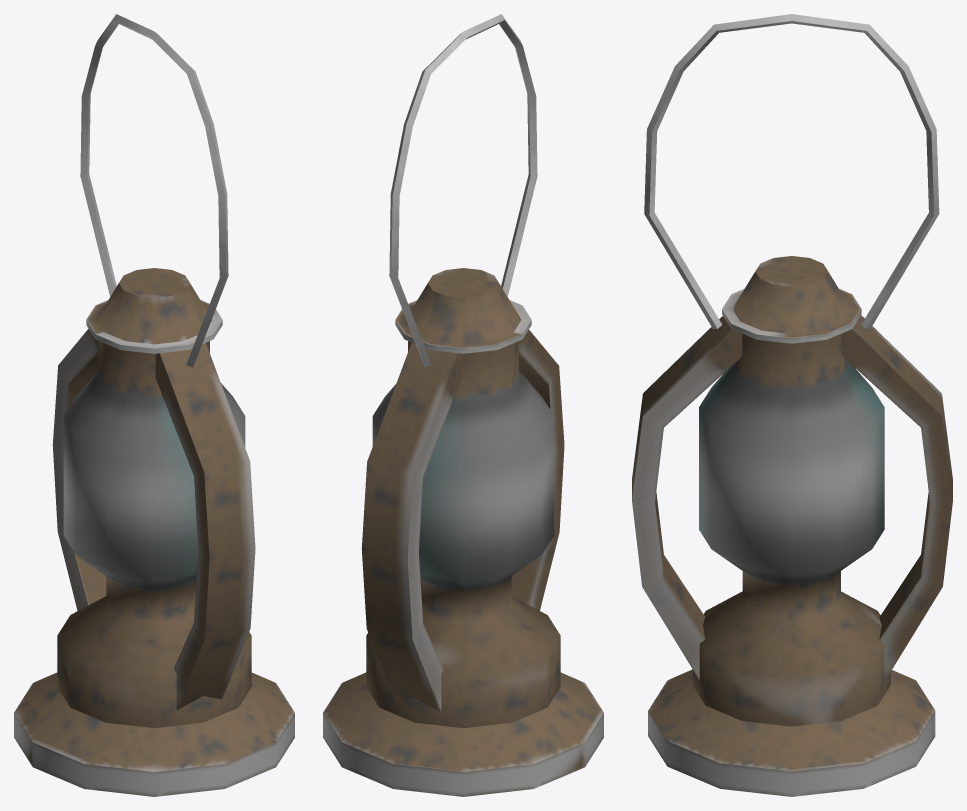
Rendered from LAMP_2_low.fbx.
3 views of the same model, side by side, from view 1: azimuth 30°, elevation 25°; view 2: azimuth 150°, elevation 25°; view 3: azimuth 270°, elevation 25° (orthographic). The views are drawn at different scales.
Parts seen in each view (by area): view 1: LAMP_2_low; view 2: LAMP_2_low; view 3: LAMP_2_low.
Boxes of the visible parts, box(x1,y1,x2,y2) form: LAMP_2_low: box(14, 14, 294, 796); LAMP_2_low: box(323, 14, 603, 796); LAMP_2_low: box(632, 14, 952, 796).
Size of the model in its own units: 15.18 by 42.11 by 16.96.
